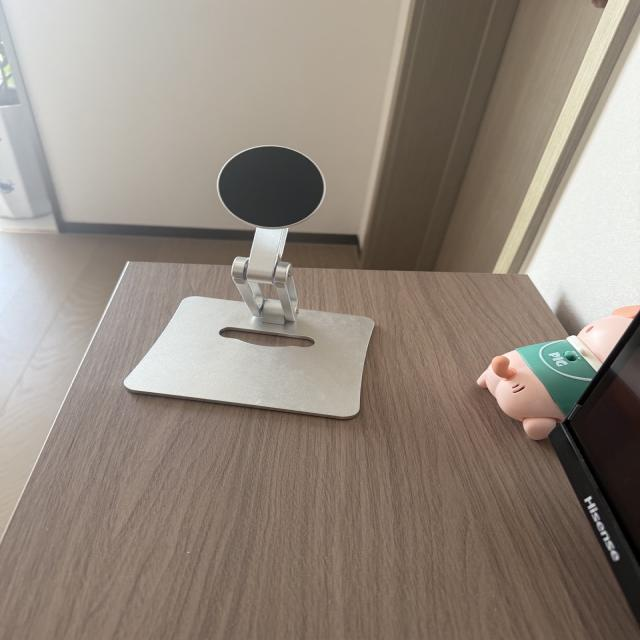phone holder: (113, 132, 383, 432)
